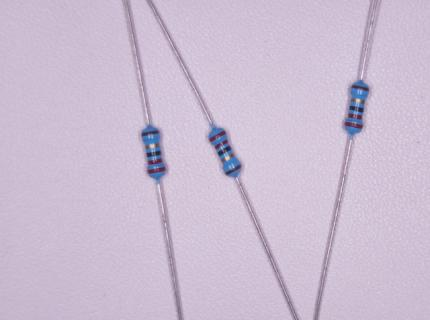Black band: (217, 146, 232, 156), (349, 105, 364, 113), (147, 150, 162, 157)
Brown band: (224, 164, 242, 175), (351, 84, 369, 92), (141, 130, 160, 137)
Gold band: (221, 153, 235, 163), (144, 143, 159, 150), (351, 98, 365, 104)
Red band: (209, 130, 227, 143), (147, 166, 166, 175), (214, 139, 229, 150), (344, 121, 364, 129), (147, 158, 163, 165), (348, 113, 363, 120)
